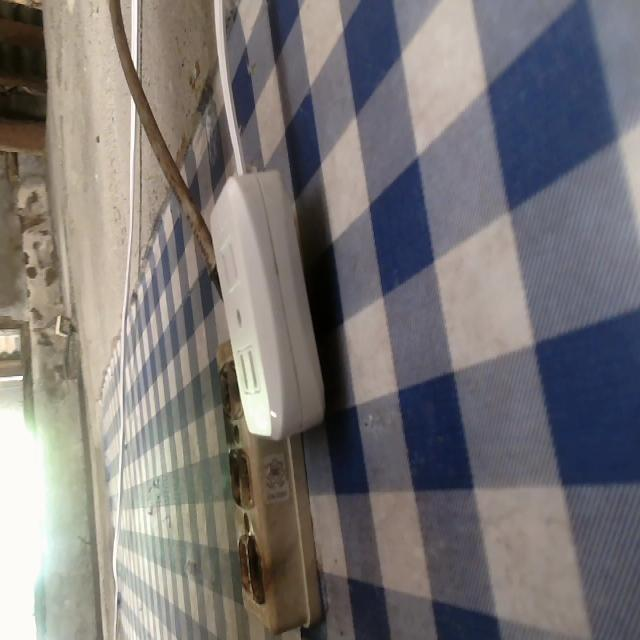-: (220, 446, 262, 514), (233, 532, 270, 607), (214, 359, 246, 416)
